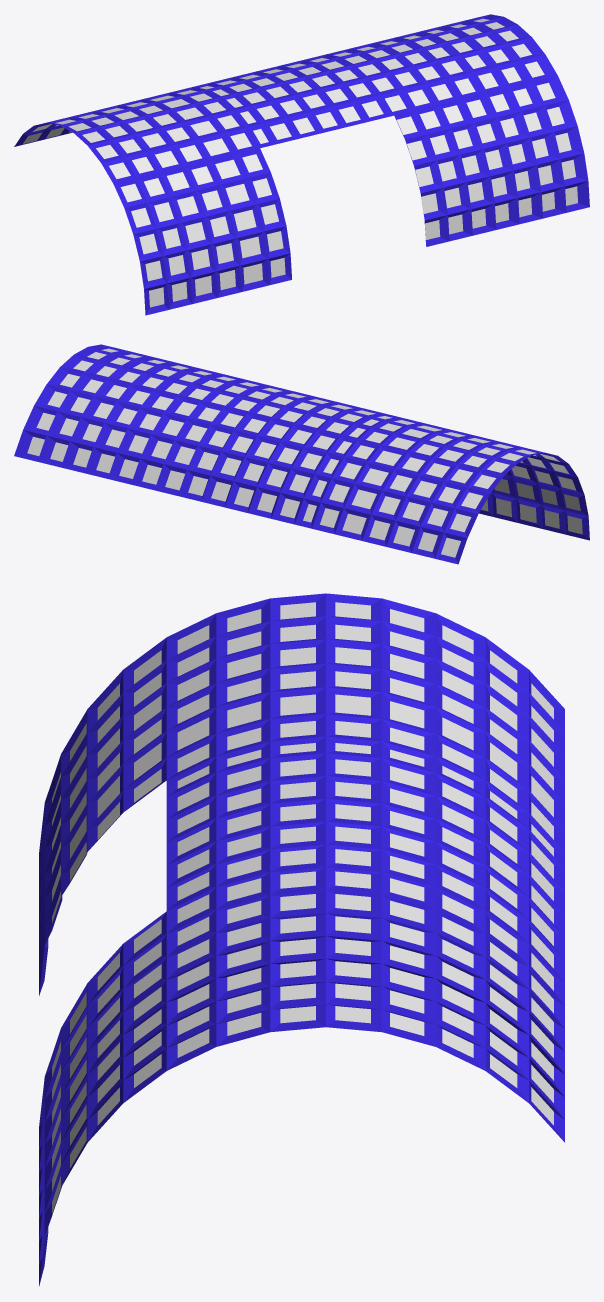
File: TrainStation Roof.fbx
The picture shows the model from 3 angles, top to bottom: view 1: azimuth 30°, elevation 25°; view 2: azimuth 150°, elevation 25°; view 3: azimuth 270°, elevation 25°; orthographic projection. The views are drawn at different scales.
Visible parts, largest first — view 1: GlassFrame.001; view 2: GlassFrame.001; view 3: GlassFrame.001.
Boxes of the visible parts, left/top/right/bottom form: GlassFrame.001: left=14, top=14, right=589, bottom=315; GlassFrame.001: left=14, top=344, right=589, bottom=564; GlassFrame.001: left=39, top=593, right=564, bottom=1286.
Size of the model in its own units: 45.82 by 12.81 by 23.48.
